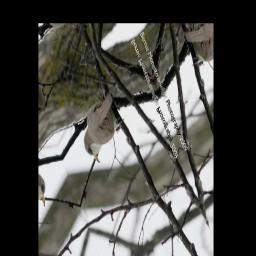Cuckoo: (73, 89, 131, 169)
